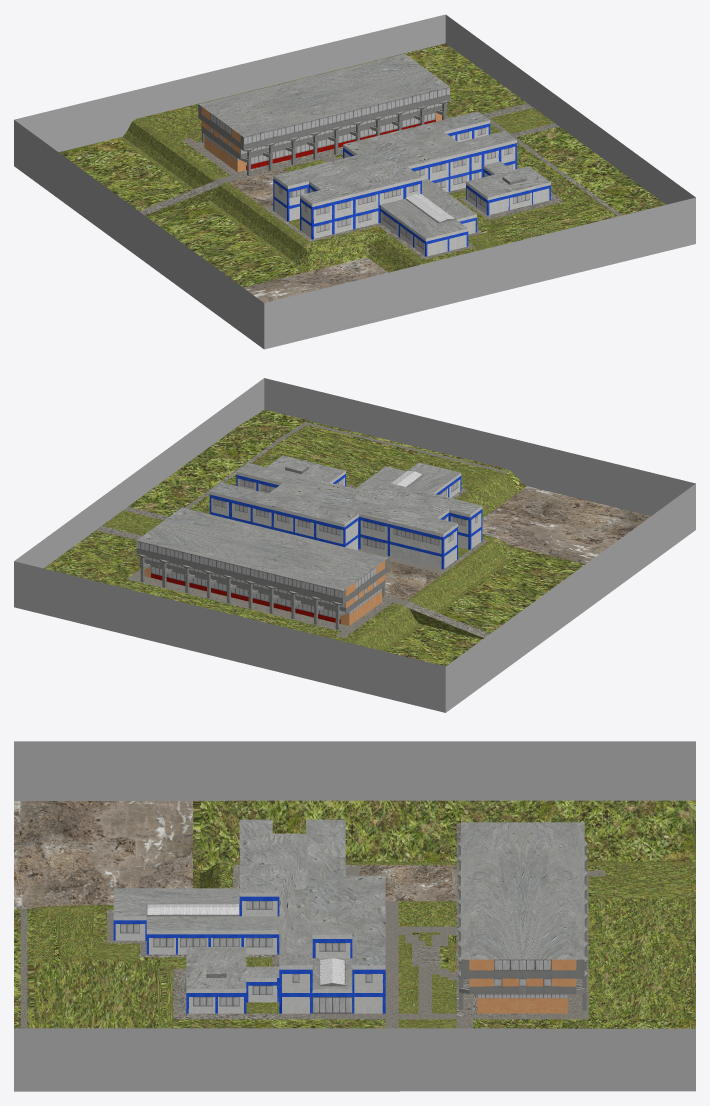
File: IME.obj
The picture shows the model from 3 angles, top to bottom: view 1: azimuth 30°, elevation 25°; view 2: azimuth 150°, elevation 25°; view 3: azimuth 270°, elevation 25°; orthographic projection. The views are drawn at different scales.
Parts seen in each view (by area): view 1: Barrier_BarrMesh, Terrain_TMesh, BlocoB_BMesh, BlocoA_AMesh, AColumn_AColMesh; view 2: Barrier_BarrMesh, Terrain_TMesh, BlocoB_BMesh, BlocoA_AMesh, AColumn_AColMesh; view 3: Terrain_TMesh, Barrier_BarrMesh, BlocoB_BMesh, BlocoA_AMesh, AColumn_AColMesh.
Part boxes in pixels (x1=…): Barrier_BarrMesh: x1=14, y1=14, x2=695, y2=349; Terrain_TMesh: x1=59, y1=43, x2=665, y2=315; BlocoB_BMesh: x1=273, y1=111, x2=550, y2=256; BlocoA_AMesh: x1=198, y1=53, x2=450, y2=172; AColumn_AColMesh: x1=202, y1=100, x2=449, y2=175; Barrier_BarrMesh: x1=14, y1=378, x2=695, y2=712; Terrain_TMesh: x1=44, y1=409, x2=650, y2=666; BlocoB_BMesh: x1=209, y1=455, x2=482, y2=569; BlocoA_AMesh: x1=136, y1=507, x2=388, y2=625; AColumn_AColMesh: x1=137, y1=554, x2=384, y2=629; Terrain_TMesh: x1=14, y1=800, x2=695, y2=1028; Barrier_BarrMesh: x1=14, y1=741, x2=695, y2=1091; BlocoB_BMesh: x1=113, y1=819, x2=385, y2=1013; BlocoA_AMesh: x1=461, y1=822, x2=584, y2=1013; AColumn_AColMesh: x1=457, y1=840, x2=587, y2=1010.
Size of the model in its own units: 29.02 by 3.67 by 29.13.
